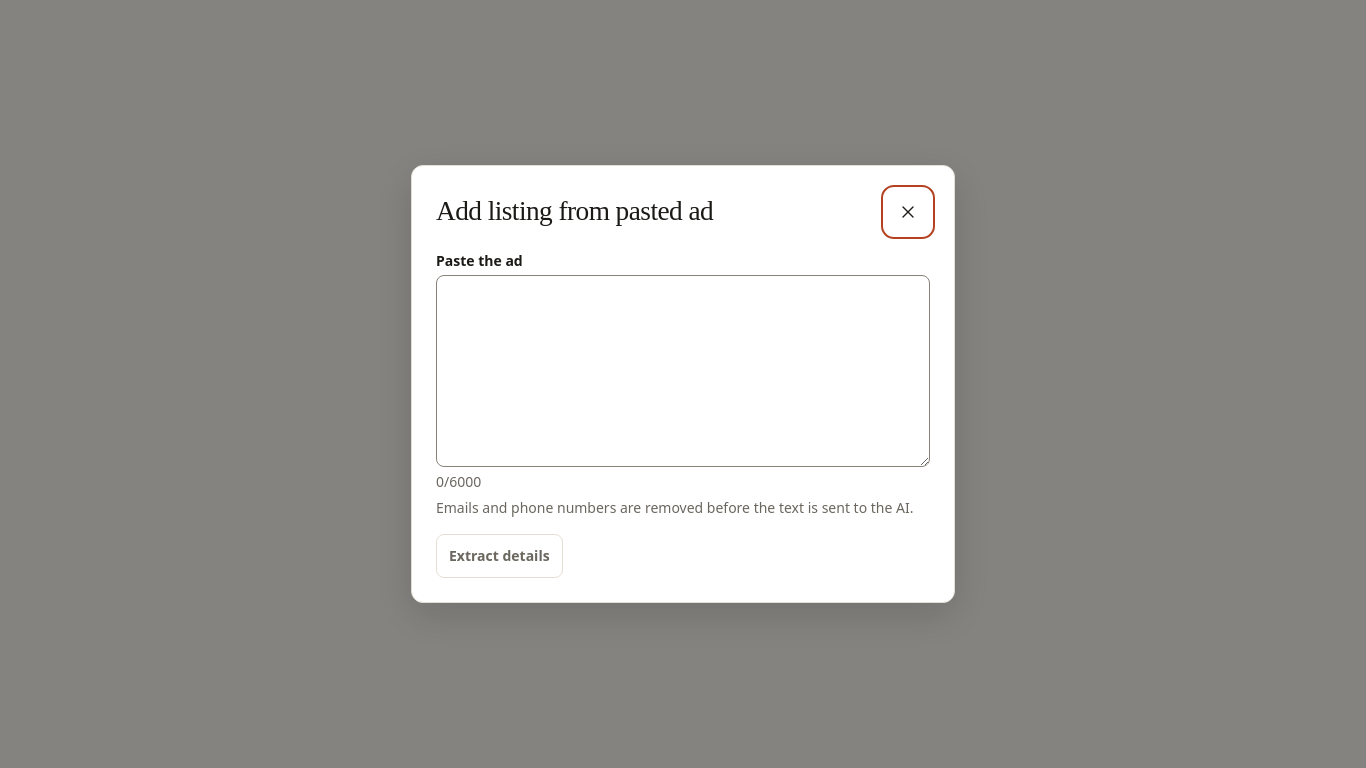
Scenario: requires the link before saving
In the text box labelled "Paste the ad": (683, 371) [436,275,930,467], type "Möbliertes Zimmer in Jena, 340 Euro warm."
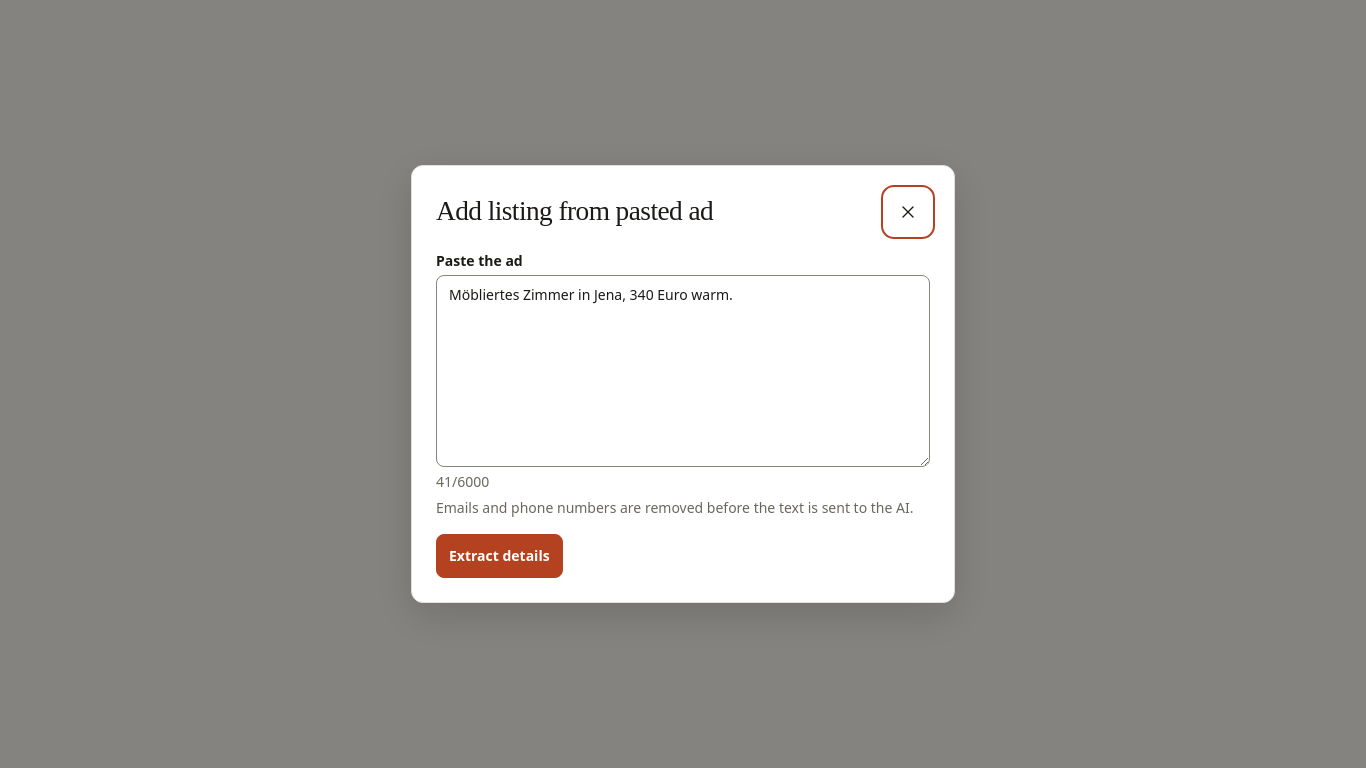
Click the button "Extract details": (499, 556) [436,534,563,578]
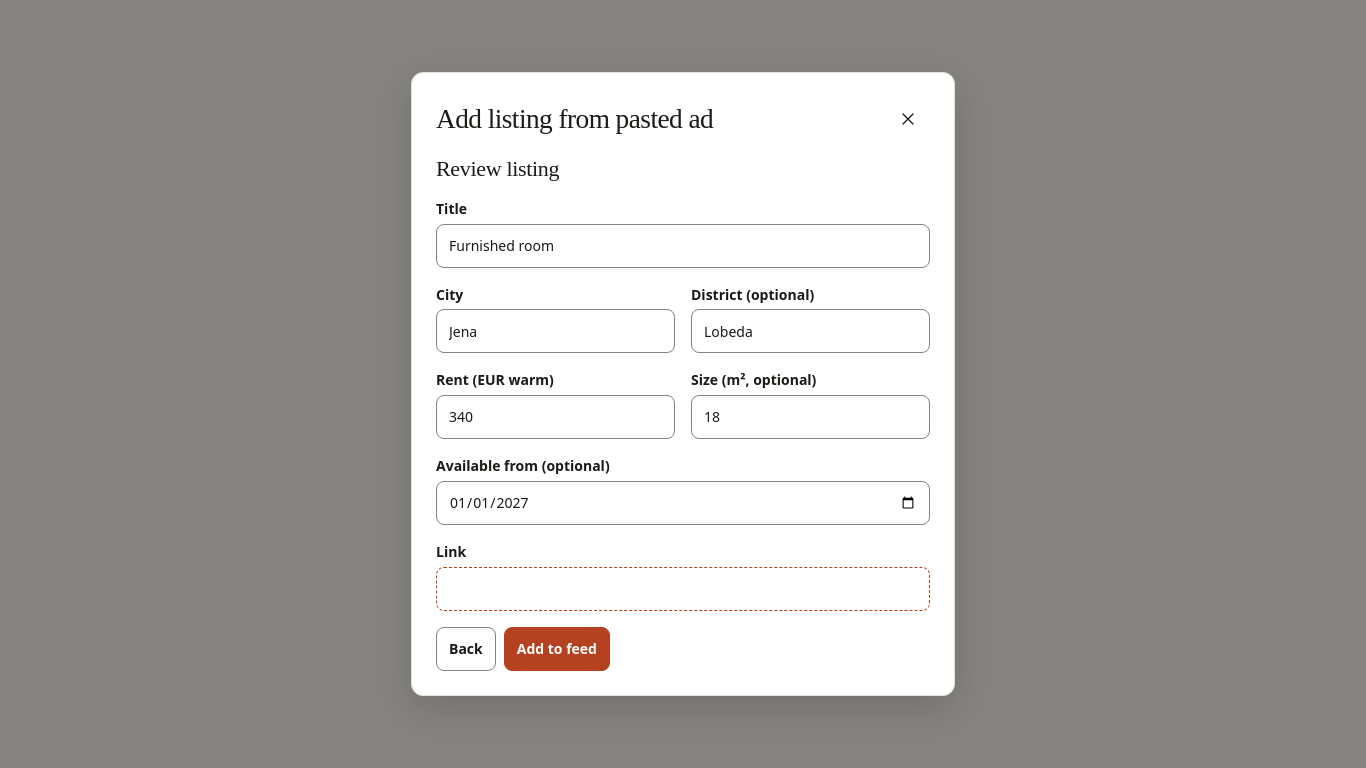
Click the button "Add to feed": (557, 648) [504,626,610,670]
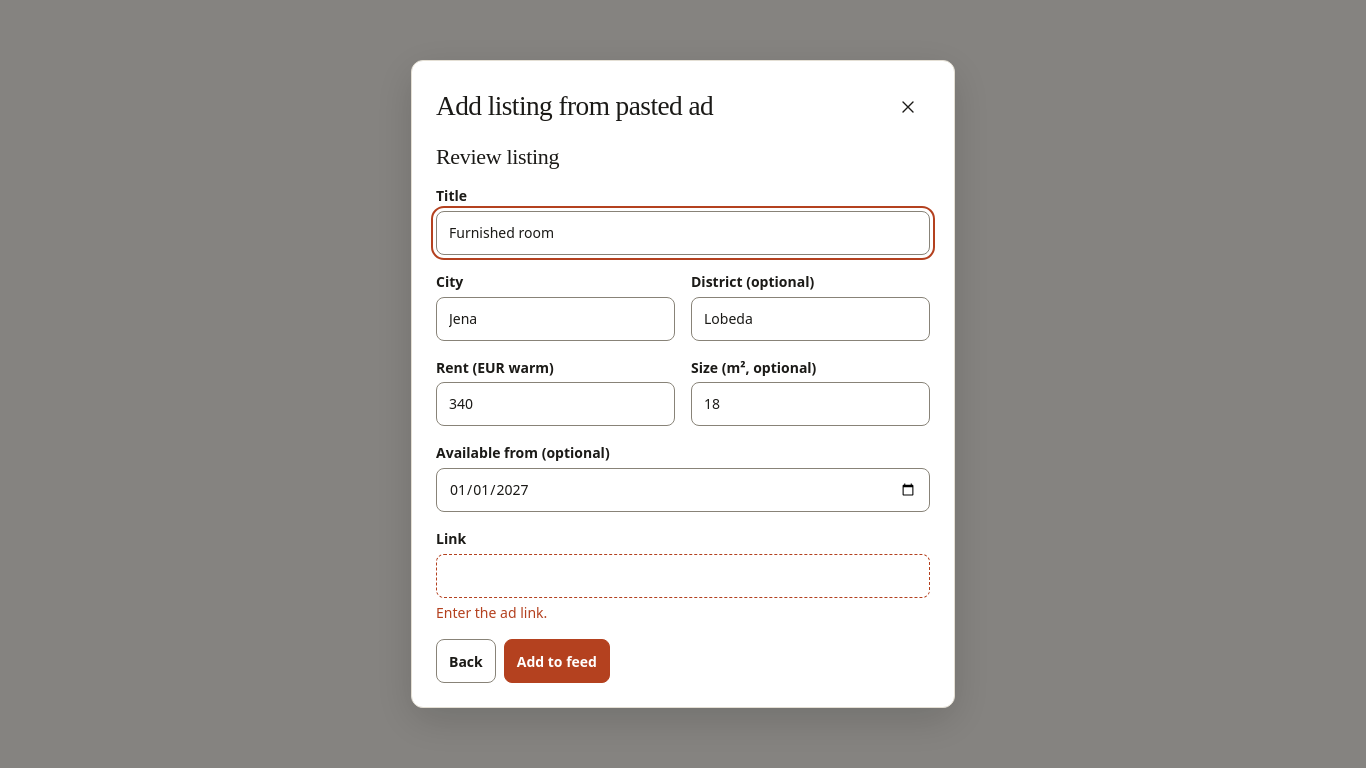
Check: the text "Enter the ad link." is shown, box [436,603,547,622]
